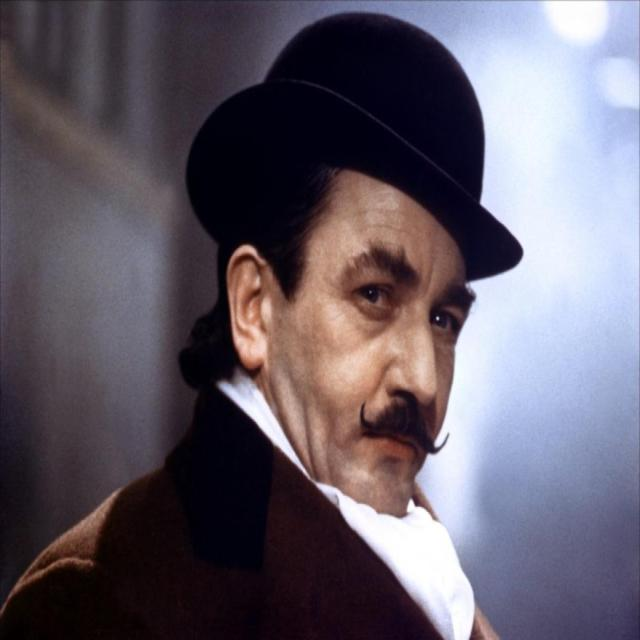no-earmuff: (222, 227, 294, 395)
